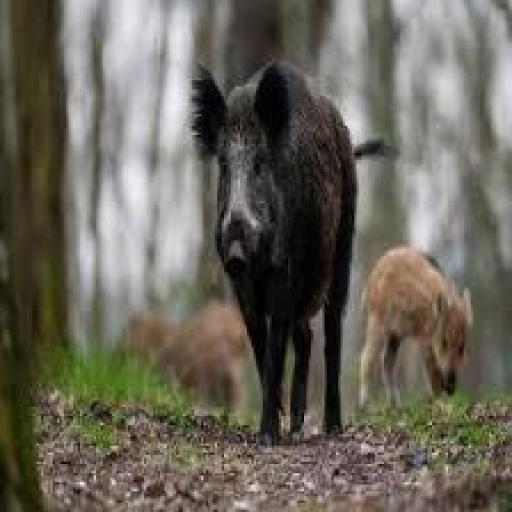Pig: (185, 50, 406, 462), (352, 235, 482, 440)
